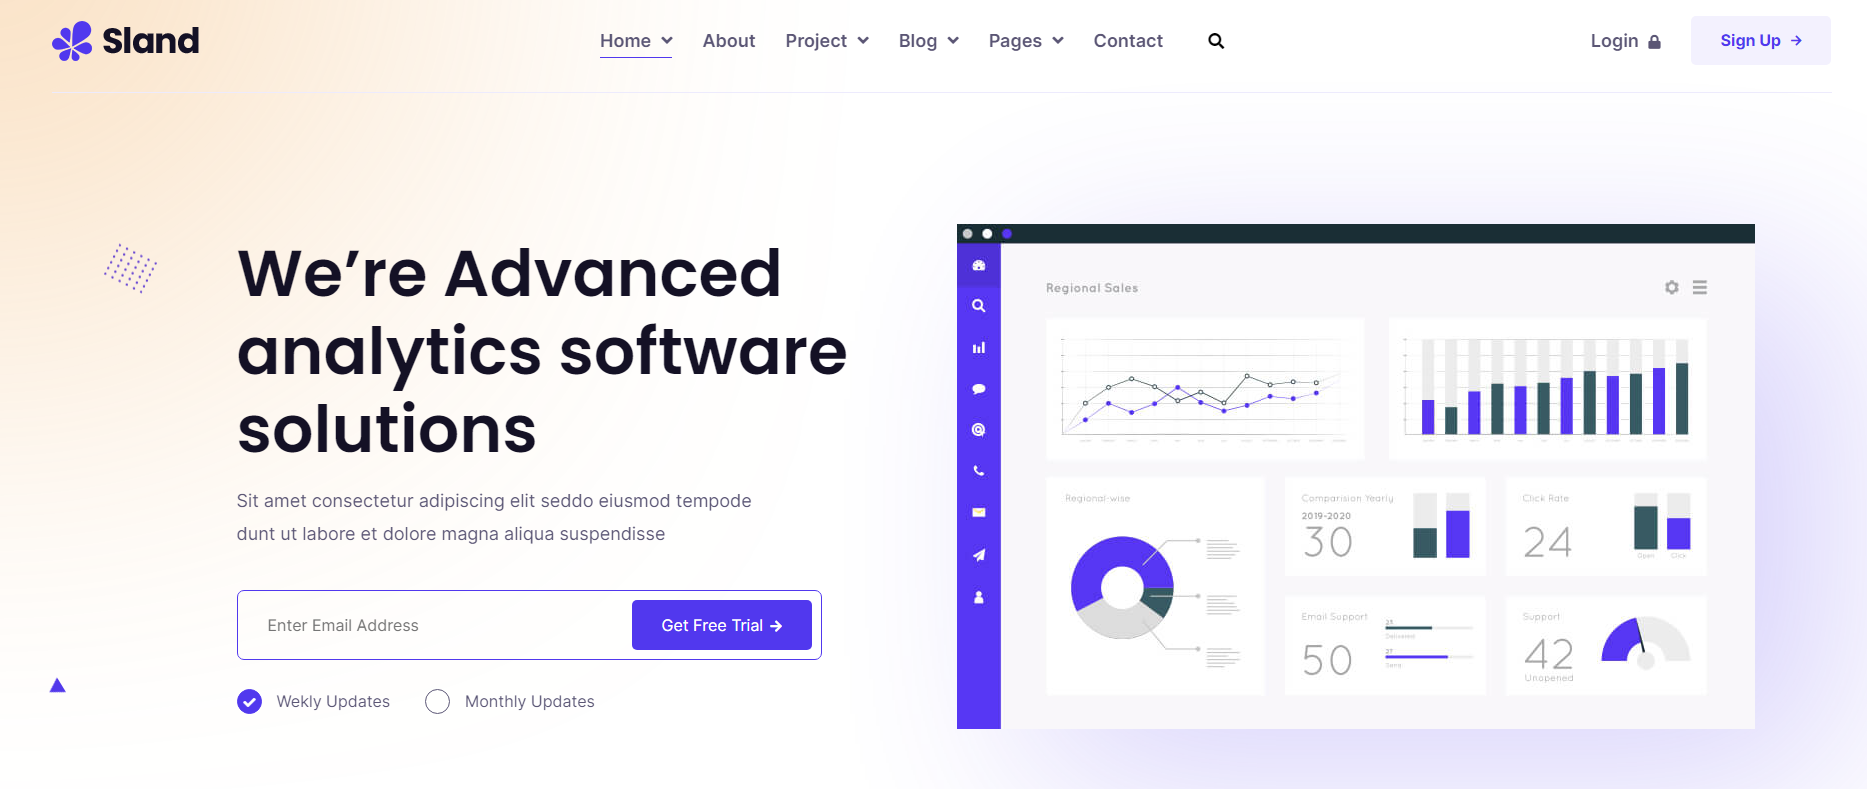menu-bar: (29, 10, 1847, 183)
